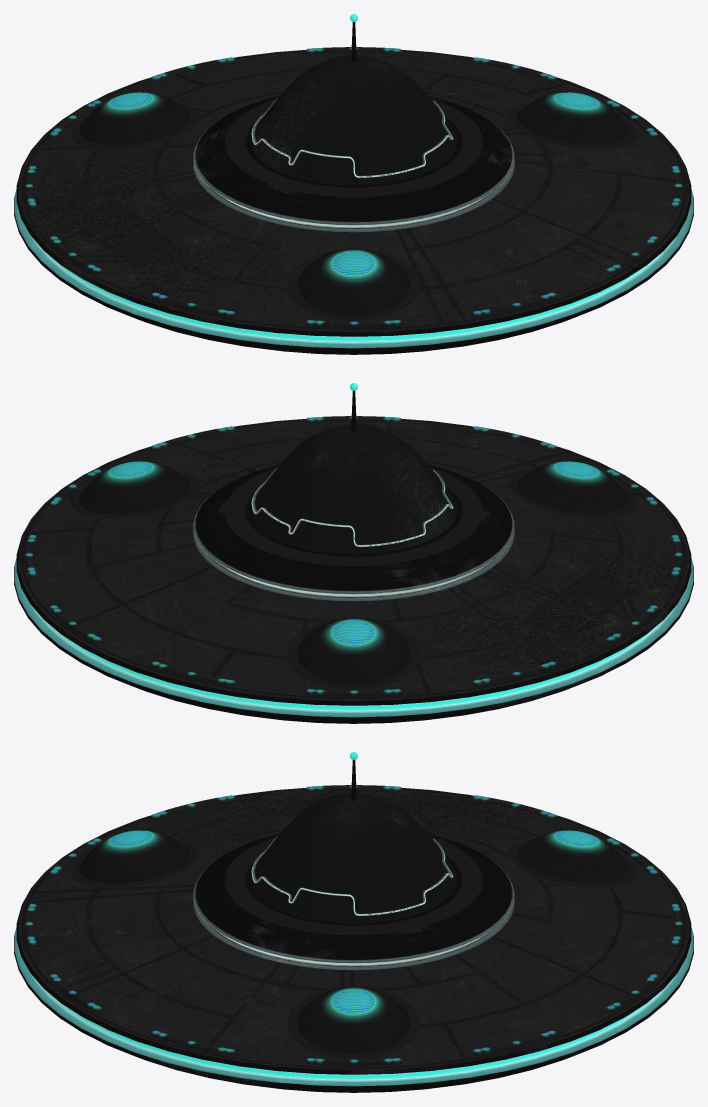
The model's file is ufo_edit_fudailshajahan.glb.
The picture shows the model from 3 angles, top to bottom: view 1: azimuth 30°, elevation 25°; view 2: azimuth 150°, elevation 25°; view 3: azimuth 270°, elevation 25°; orthographic projection.
Visible parts, largest first — view 1: Mesh_0; view 2: Mesh_0; view 3: Mesh_0.
Boxes of the visible parts, x1,y1,x2,y2 form: Mesh_0: (14, 14, 693, 354); Mesh_0: (14, 383, 693, 723); Mesh_0: (14, 752, 693, 1092).
Bounding box in the file's own units: 2.49 × 1.02 × 2.48.
1 material, 1 textured.
